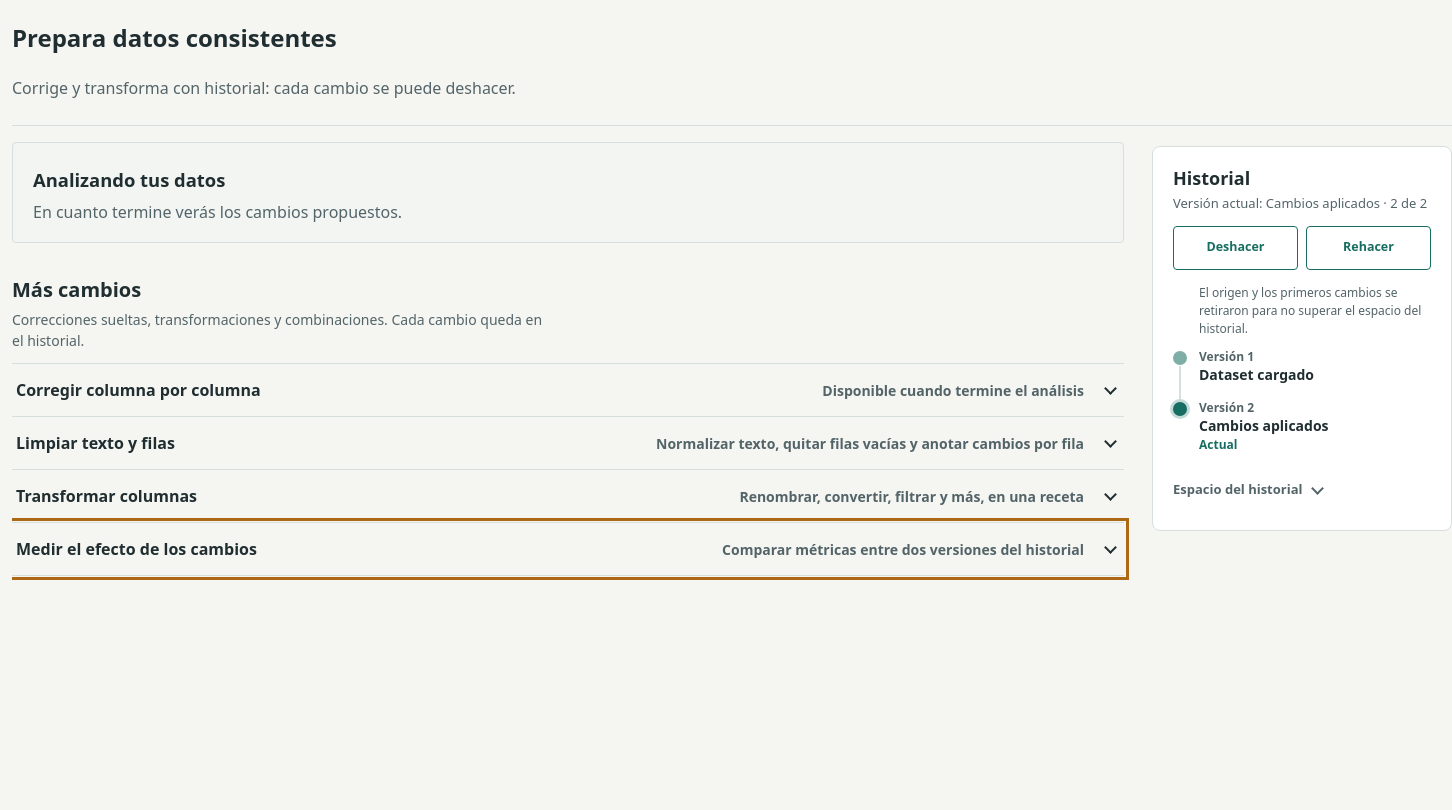
Scenario: PreparePhase › mantiene el comparador plegado hasta pedirlo y permite ejecutarlo con foco en su resumen
Expected: the number of elements named "Historial de cambios" is 1, [1152,146,1451,531]
Expected: the button "Deshacer" is enabled, [1173,226,1298,270]
Click the heading "Medir el efecto de los cambios" at x=136, y=549, box [16,538,1084,560]
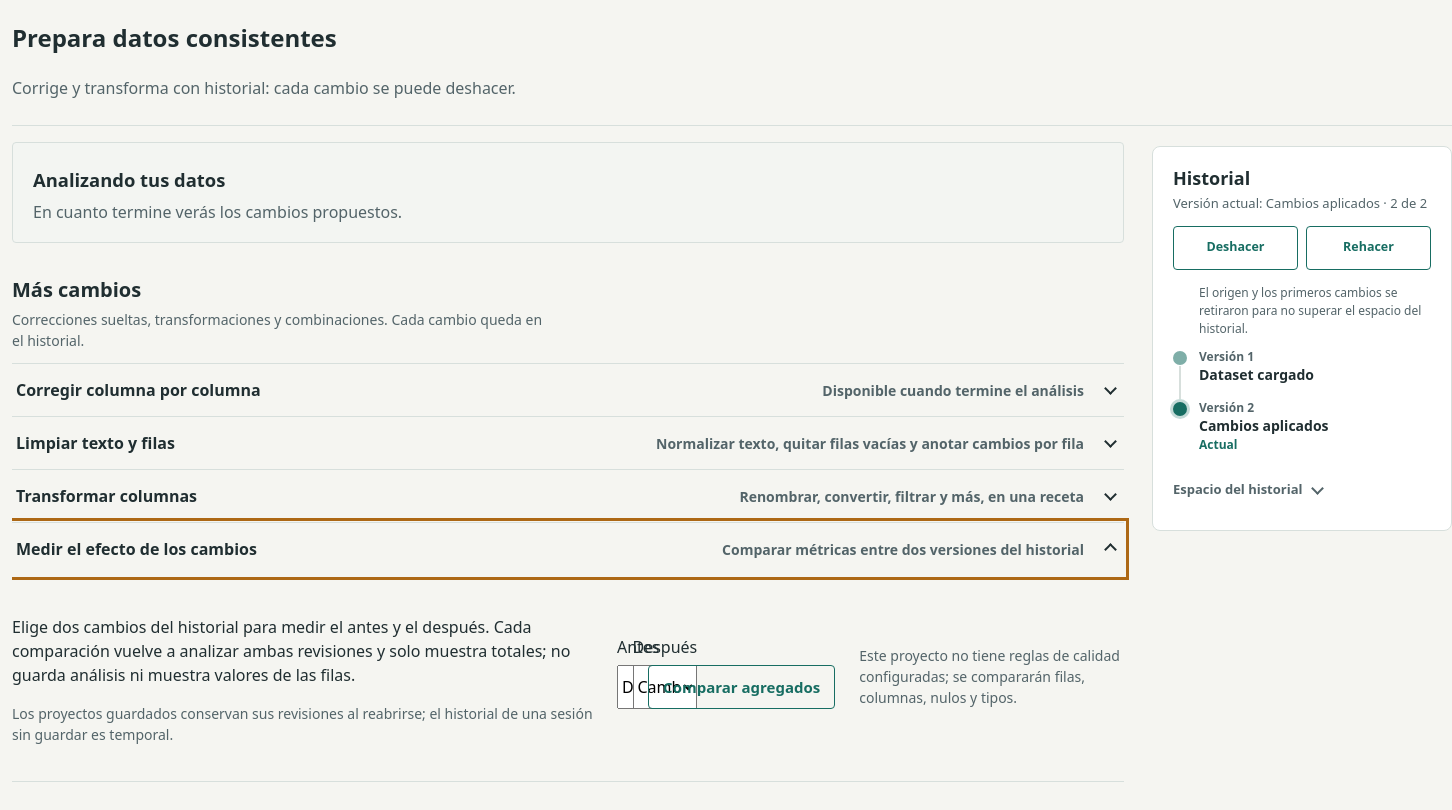
Expected: the button "Comparar agregados" is shown
Expected: the dropdown labelled "Antes" shows "Dataset cargado", [617,665,660,709]
Expected: the dropdown labelled "Después" shows "Cambios aplicados", [632,665,697,709]
Click the button "Comparar agregados" at x=742, y=687, box [648,665,835,709]
(page scrolled)
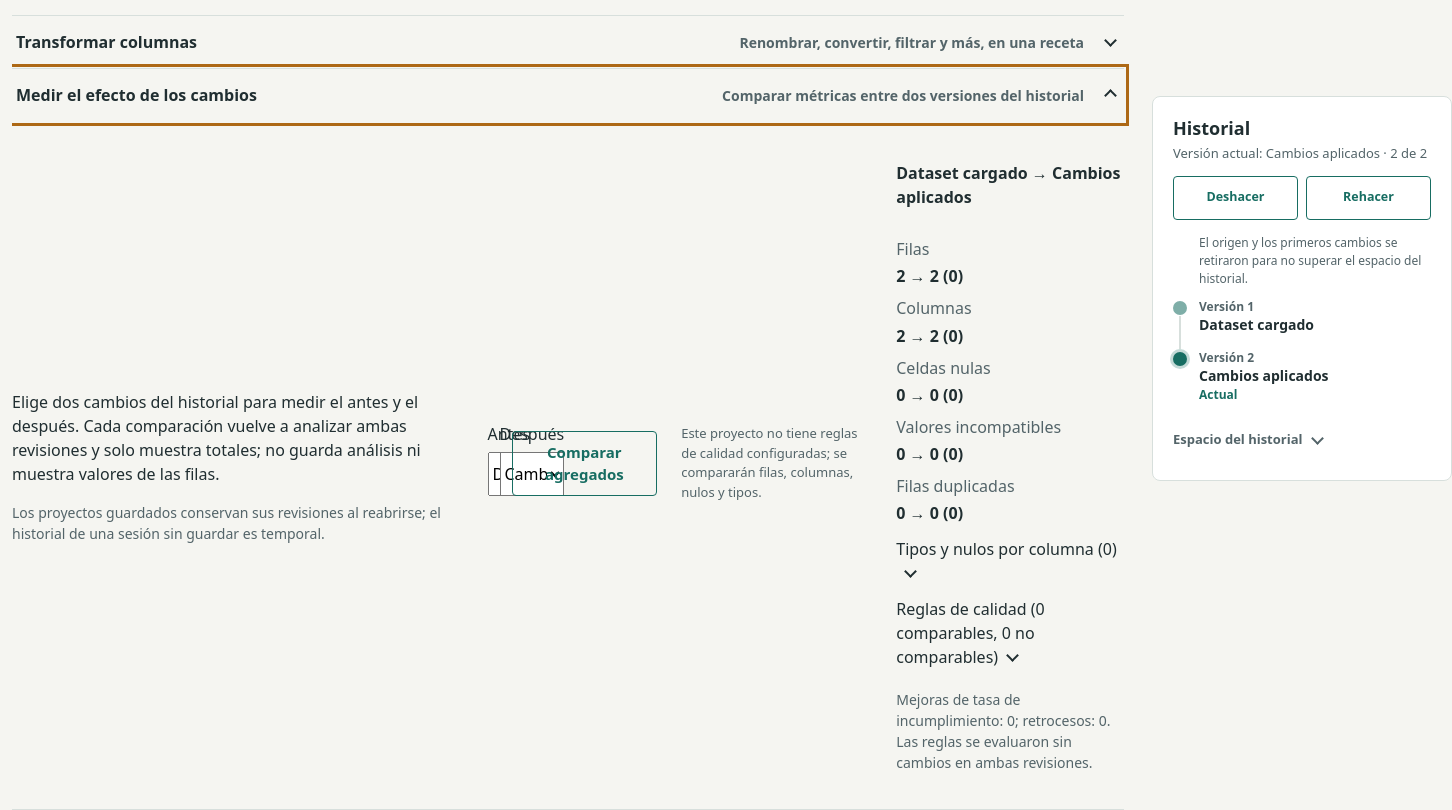
Expected: the element named "Resultado agregado de revisiones" is shown, [896,145,1124,773]
